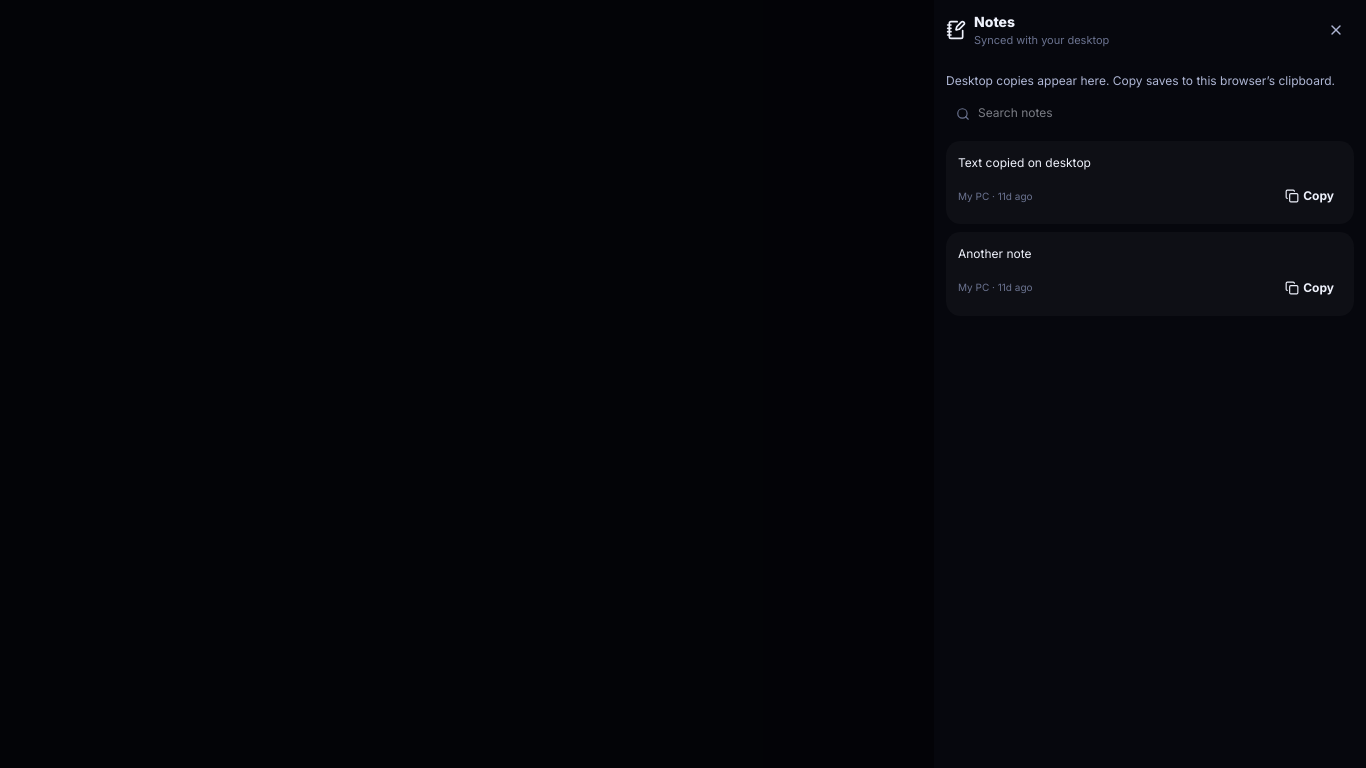
shows synced desktop text, searches it and copies locally with confirmed feedback
Type "Text copied" into the field named "Search desktop notes" at (1150, 112), box [946,96,1354,128]
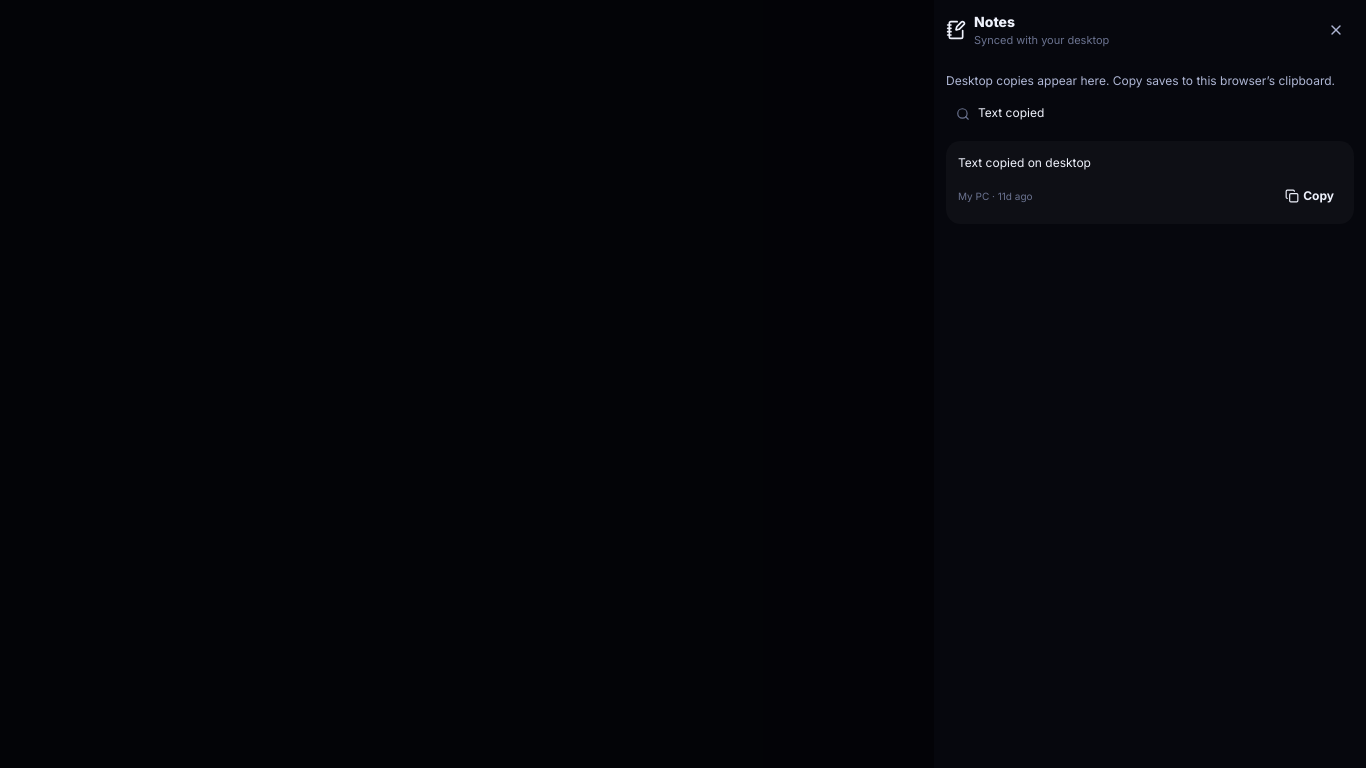
Expected: the text "Another note" is gone
Click the button with aria-label "Copy note" at (1310, 196), box [1277,180,1342,212]
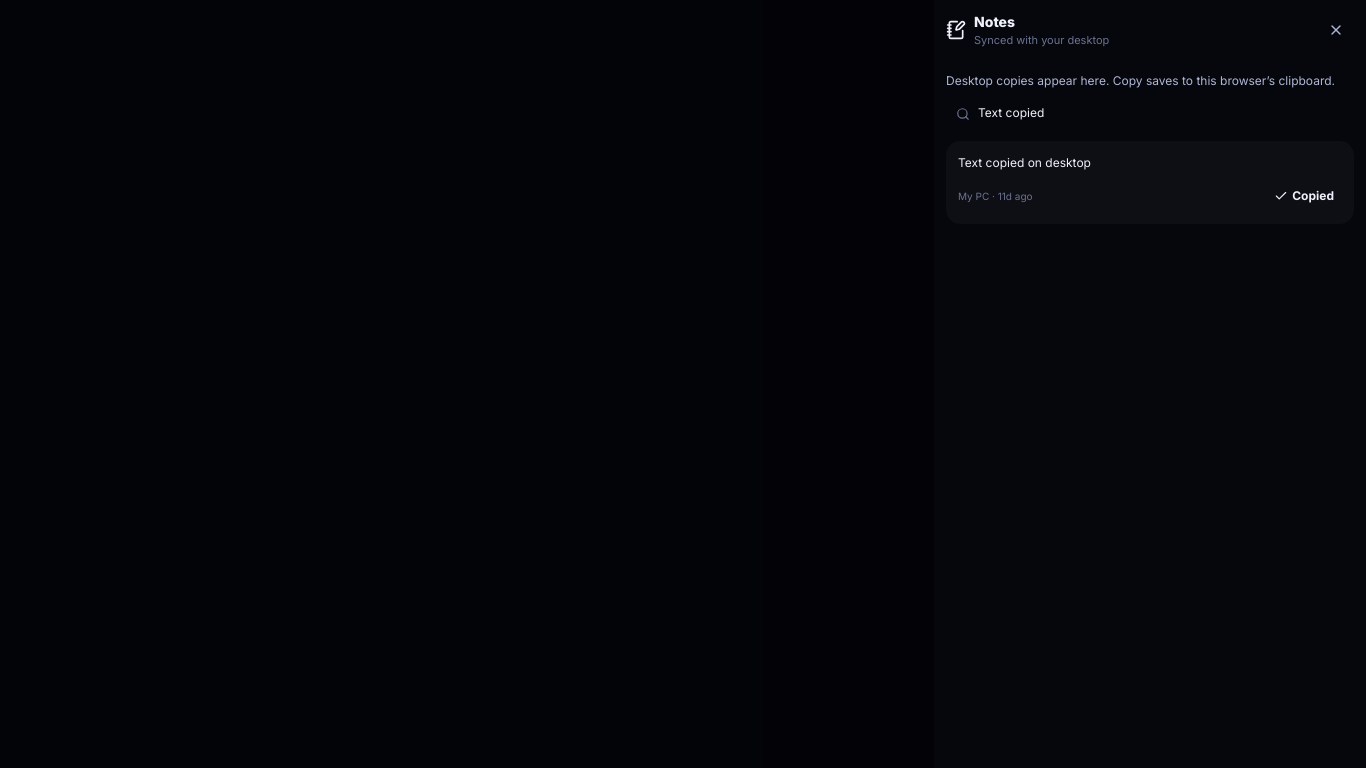
Expected: the button with aria-label "Copied note" is shown, [1266,180,1342,212]
